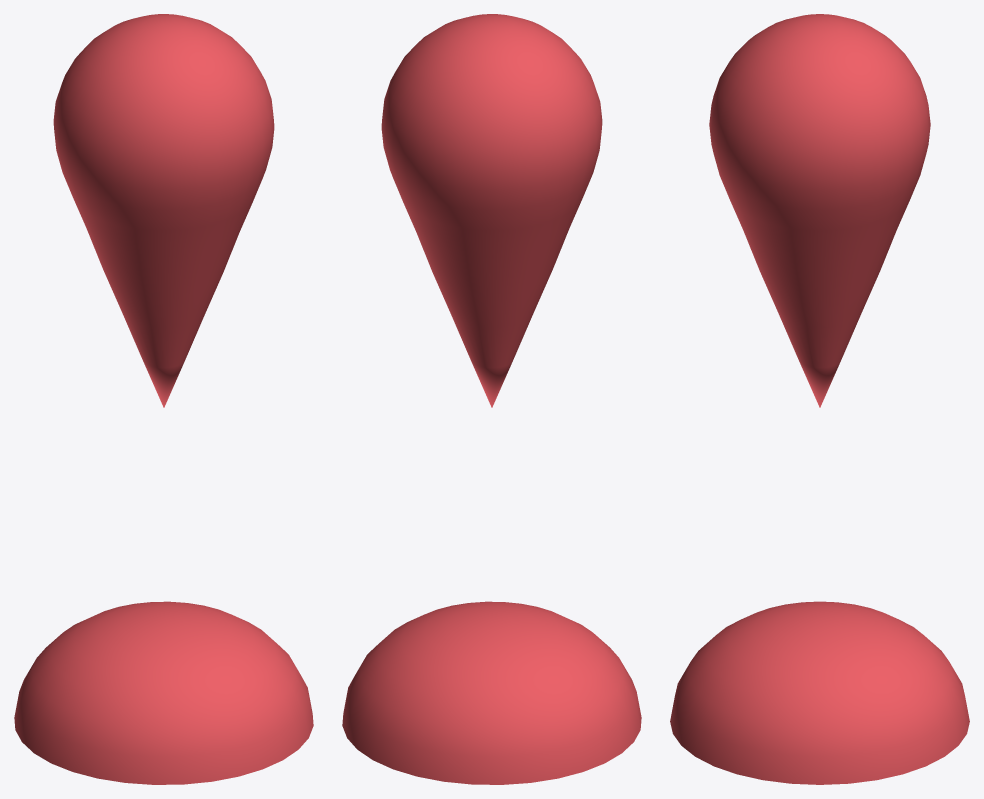
The model's file is TouchMarkerAR.fbx.
3 renders of one model, left to right at view 1: azimuth 30°, elevation 25°; view 2: azimuth 150°, elevation 25°; view 3: azimuth 270°, elevation 25°, orthographic.
Visible parts, largest first — view 1: Sphere.001, Sphere; view 2: Sphere.001, Sphere; view 3: Sphere.001, Sphere.
Part boxes in pixels (box(x1,y1,x2,y2)): Sphere.001: box(53, 14, 274, 407); Sphere: box(14, 601, 313, 784); Sphere.001: box(381, 14, 602, 407); Sphere: box(342, 601, 641, 784); Sphere.001: box(709, 14, 930, 407); Sphere: box(670, 601, 969, 784).
Bounding box in the file's own units: 160 × 410 × 160.
